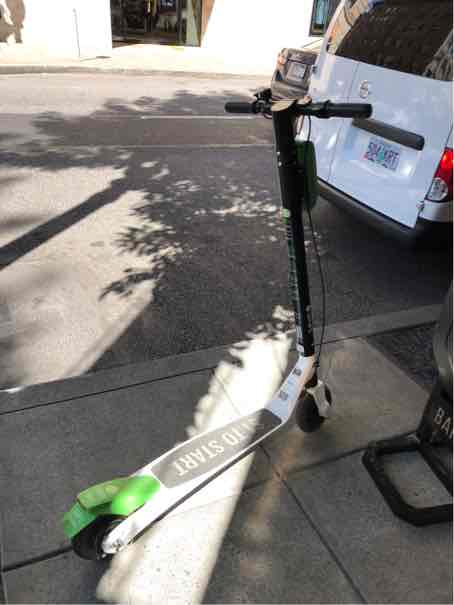scooter: (59, 87, 376, 569)
